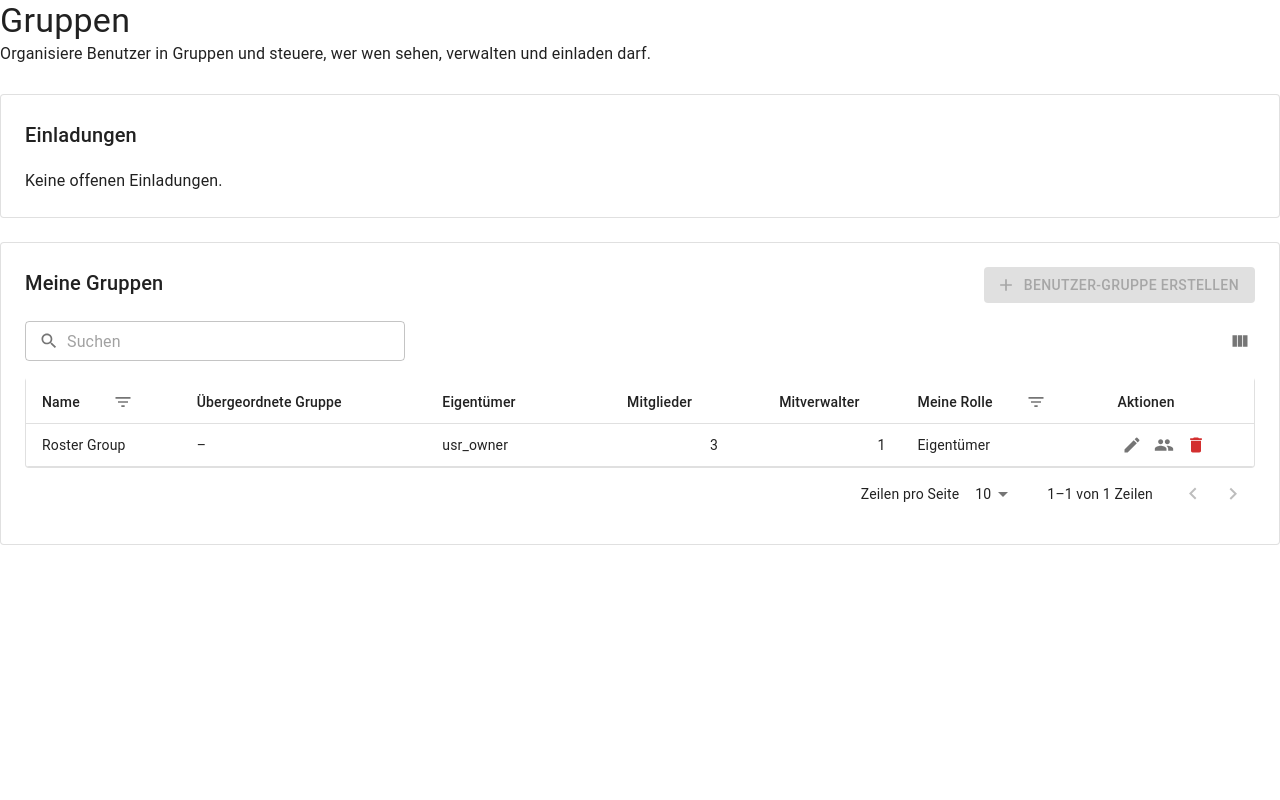
shows the group's real current roster as a table with a role column, and offers no action on the owner row
This screenshot has width=1280, height=800.
Click the button named "Mitglieder verwalten" at (1164, 446), box [1149, 430, 1179, 460]
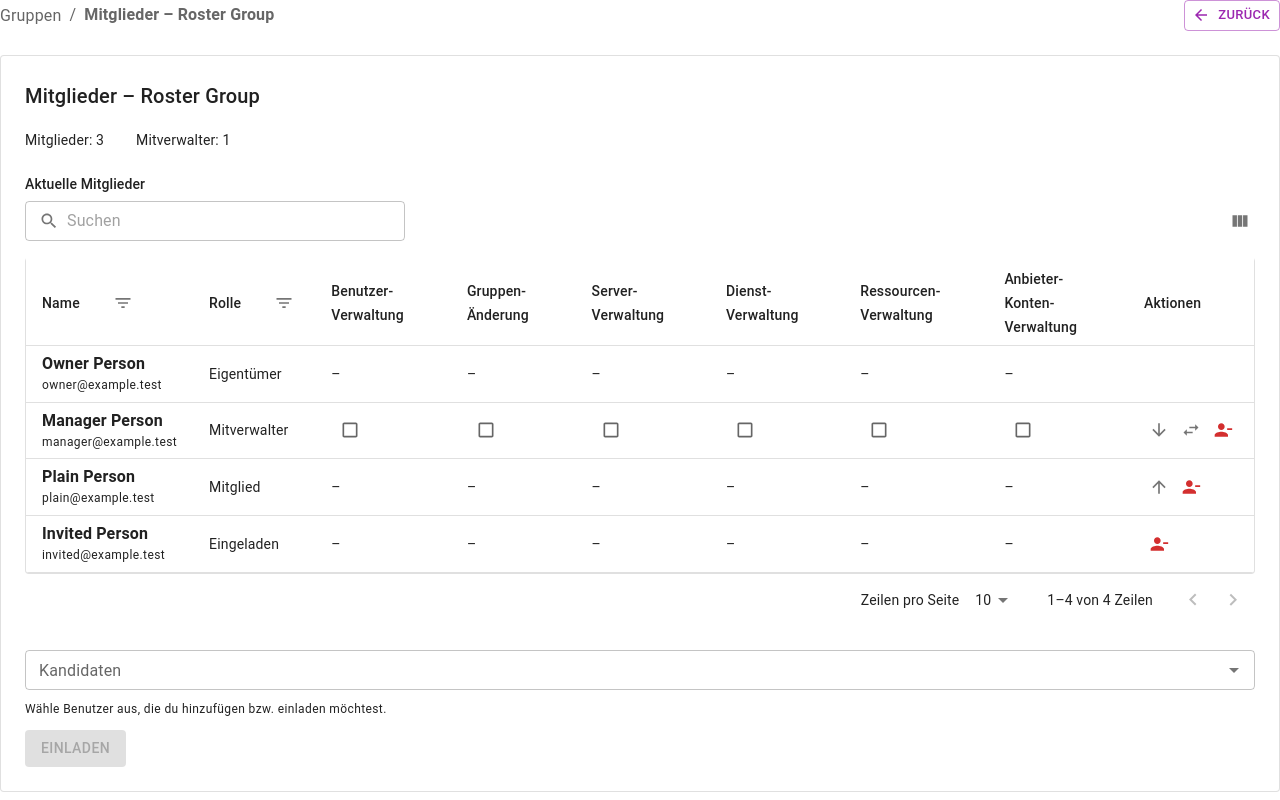
Result: the text "Owner Person" is shown at [42, 354, 145, 373]
Result: the text "Manager Person" is shown at [42, 408, 177, 432]
Result: the text "Plain Person" is shown at [42, 467, 135, 486]
